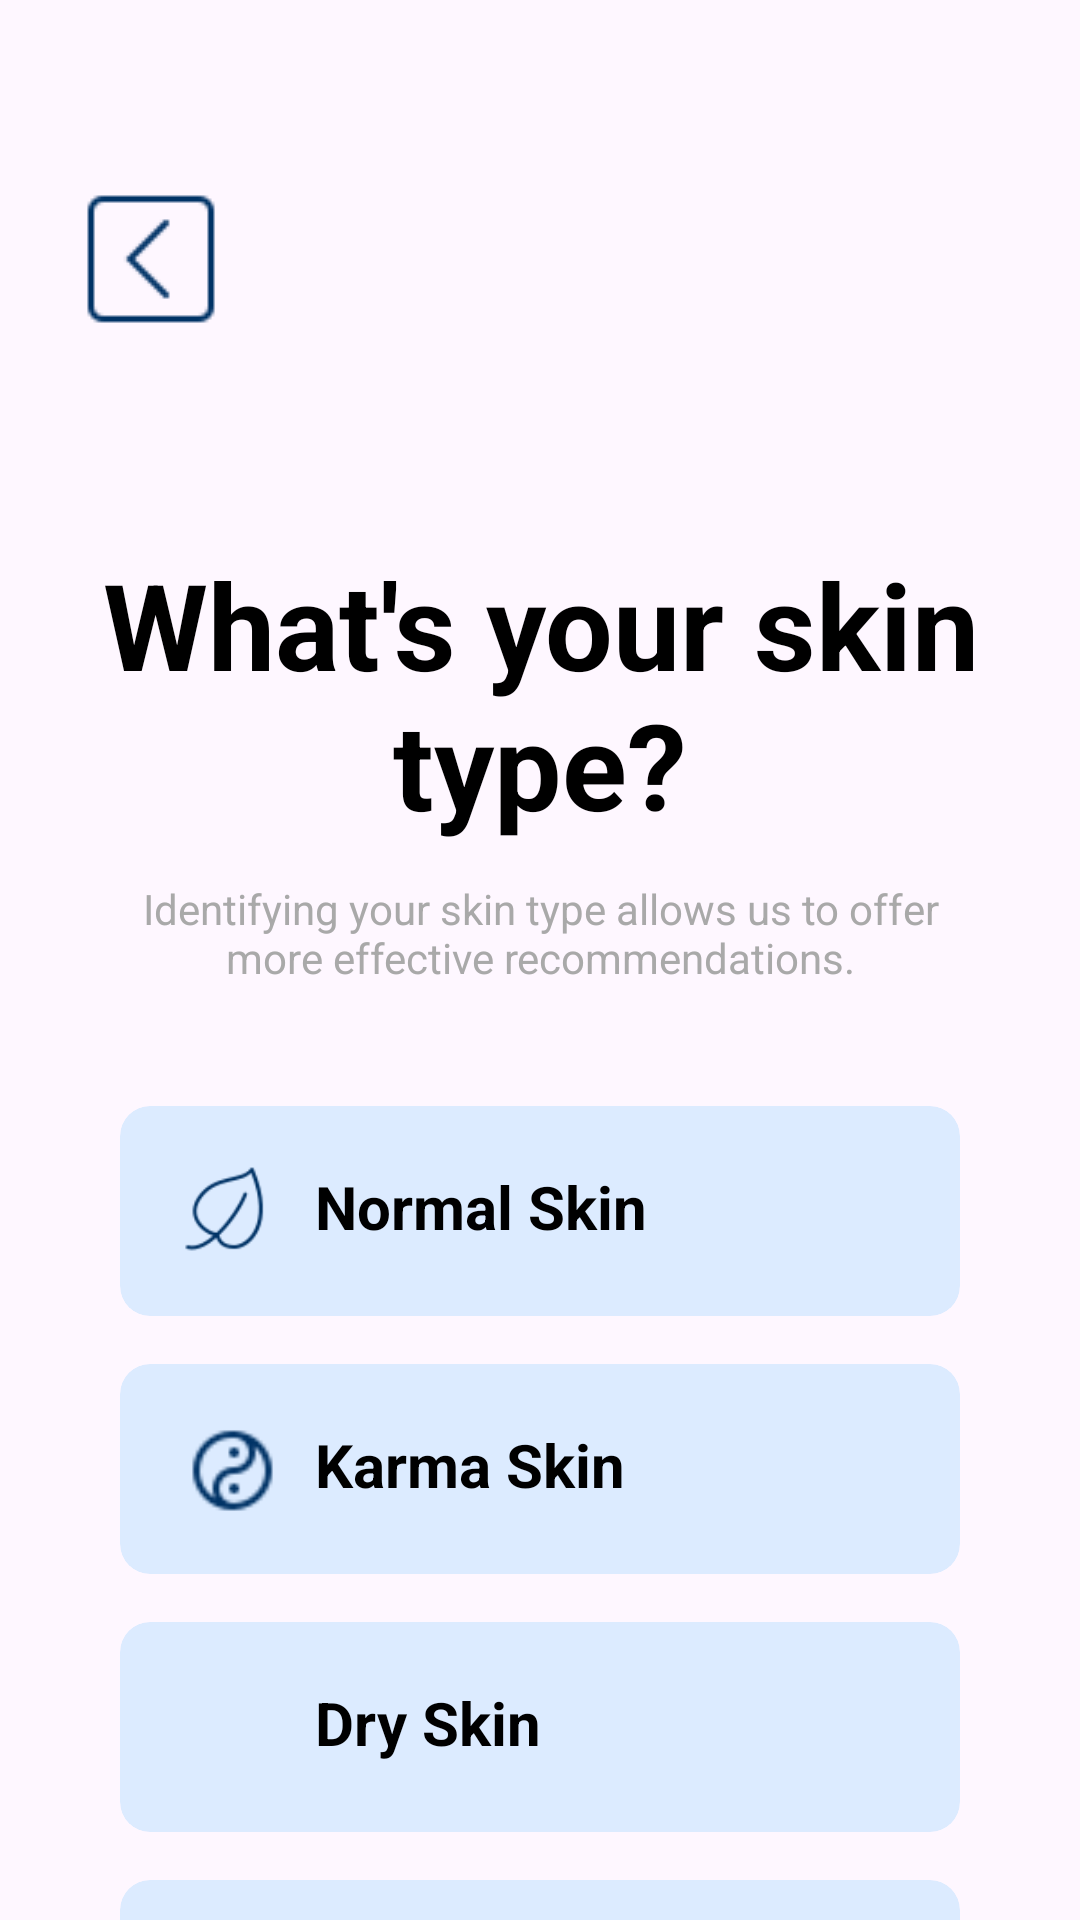

Named icons in this screenshot (1080px×1920px) and their bounding boxes, (x1, y1, x2, y2):
back button: (87, 195, 215, 323)
